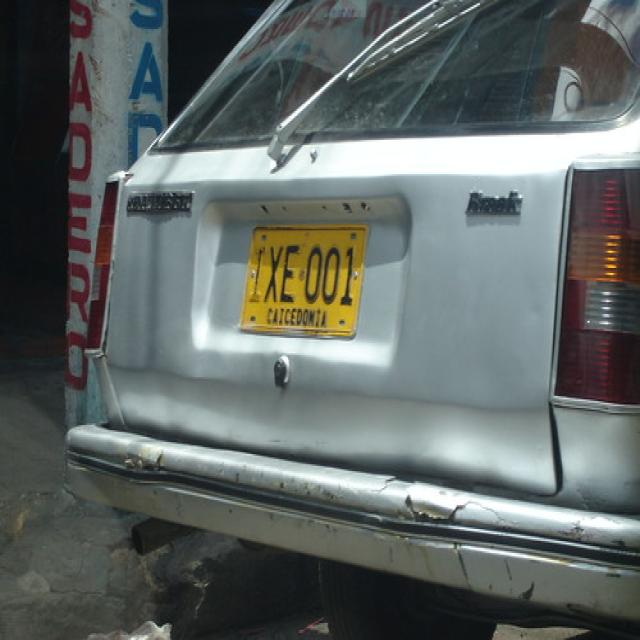placas: (243, 232, 364, 308)
